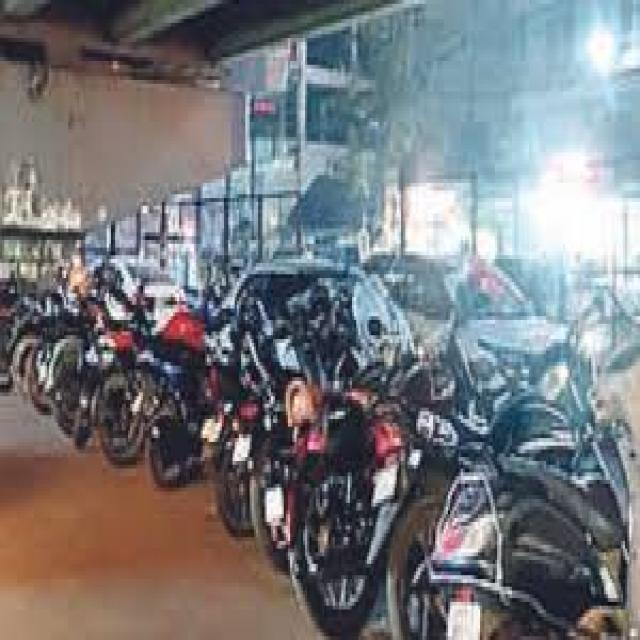No Parking: (20, 182, 604, 640)
